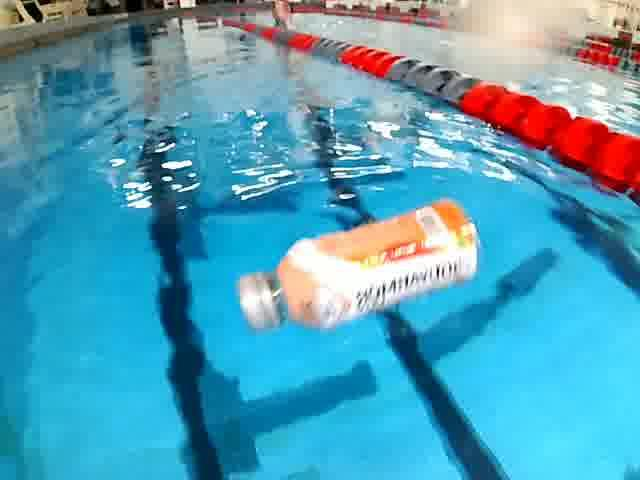Bottle: (226, 177, 492, 353)
